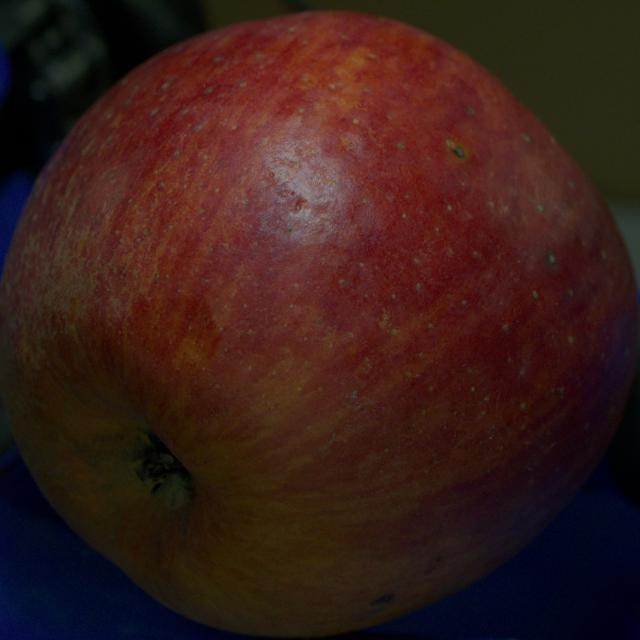apple: (0, 13, 639, 637)
pest: (371, 594, 394, 606), (454, 146, 464, 158), (296, 202, 302, 209)
